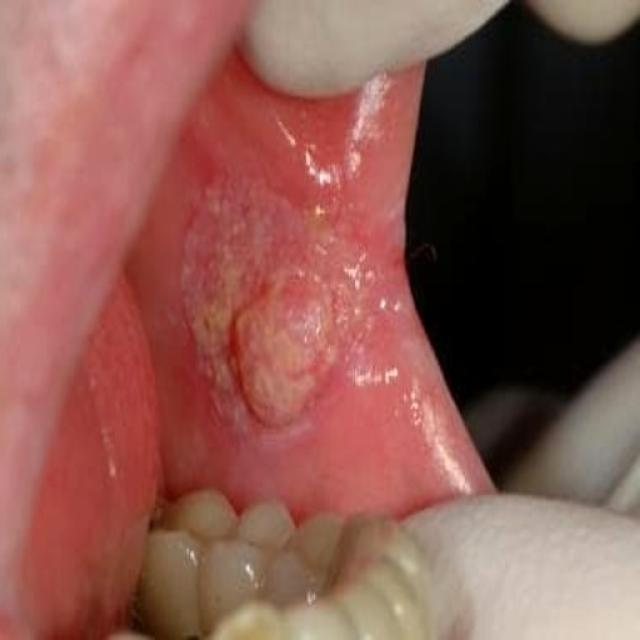cancer-detection: (170, 165, 383, 462)
processing_area: (3, 52, 513, 639)
